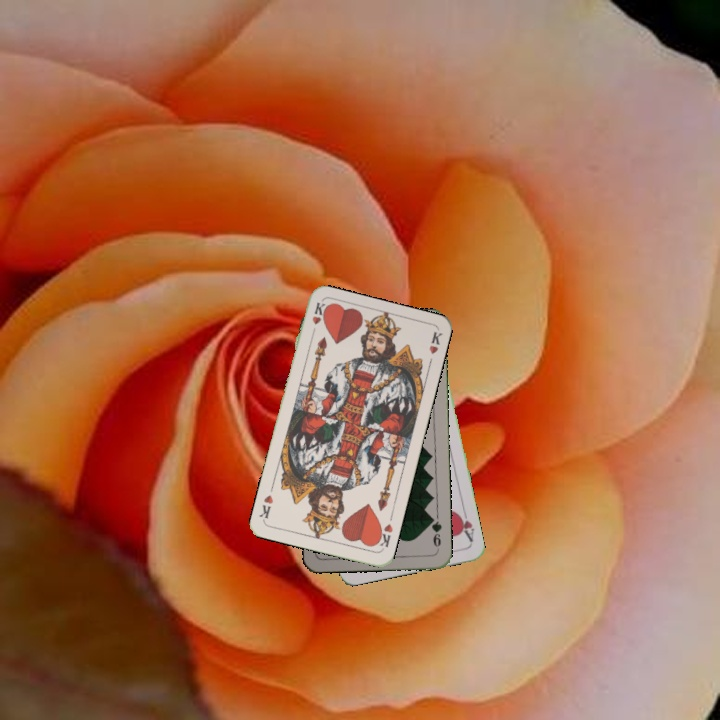G9: (426, 512, 444, 553)
HA: (453, 505, 477, 545)
HK: (307, 299, 328, 339), (372, 520, 395, 552)
